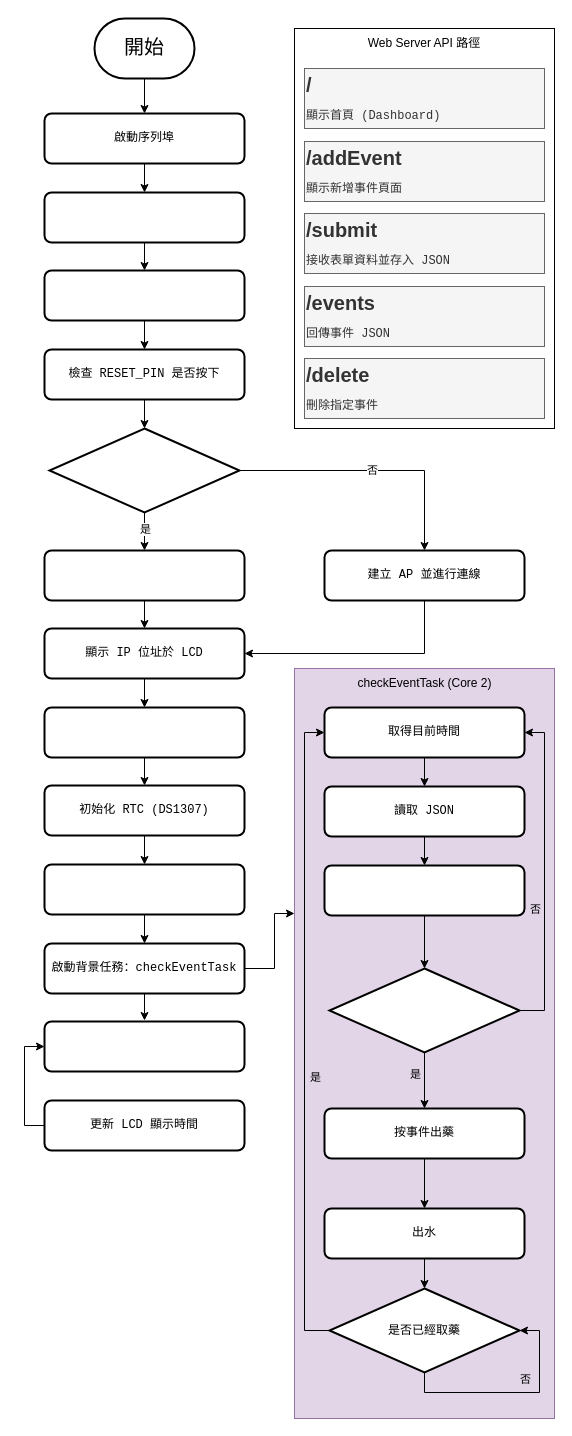
Image size: 572x1436. Some labels were removed from this diagram. Each missing label, with the centre of its shape:
RESET_PIN 是否按下: pixel 144 470
使用 WiFiManager 自動連線: pixel 144 575
初始化 LCD 顯示器: pixel 144 295
啟動網路伺服器: pixel 144 732
是否 符合條件: pixel 424 1010
比對JSON事件與目前時間: pixel 424 890
與 NTP 同步時間: pixel 144 889
處理網路伺服器請求: pixel 144 1046
設定 RESET_PIN: pixel 144 217
